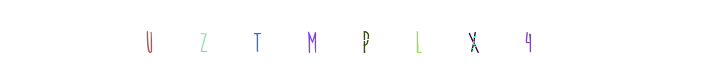4: (466, 0, 546, 80)
L: (321, 0, 401, 80)
M: (279, 0, 359, 80)
P: (320, 0, 400, 80)
T: (272, 0, 352, 80)
U: (122, 0, 202, 80)
X: (369, 0, 449, 80)
Z: (217, 0, 297, 80)
